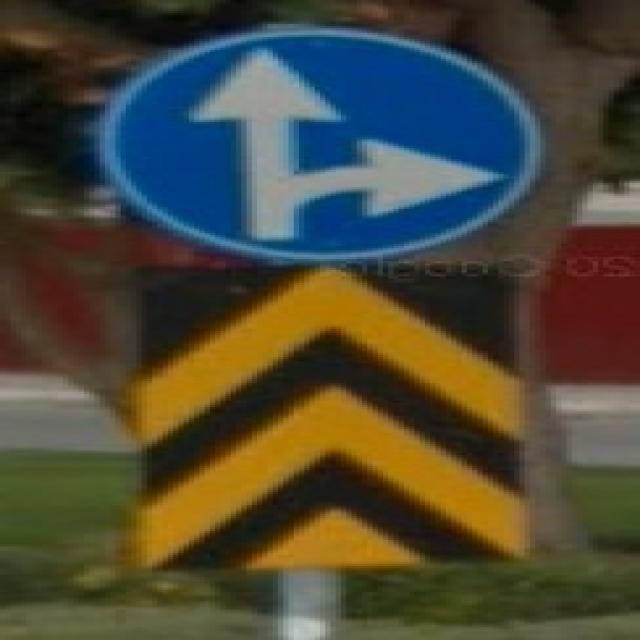Straight or Right: (104, 30, 534, 257)
